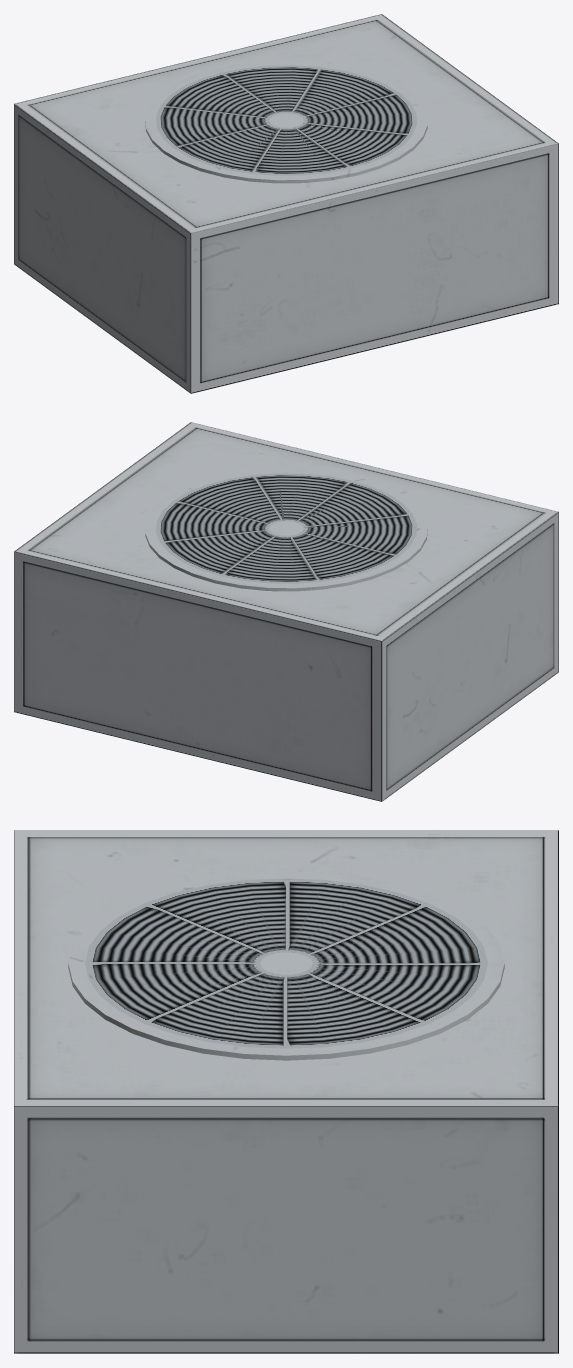
File: AirConditioner_02.FBX
3 views of the same model, one above another, from view 1: azimuth 30°, elevation 25°; view 2: azimuth 150°, elevation 25°; view 3: azimuth 270°, elevation 25° (orthographic). The views are drawn at different scales.
Parts seen in each view (by area): view 1: AirConditioner_02; view 2: AirConditioner_02; view 3: AirConditioner_02.
Boxes of the visible parts, bbox=[...] form: AirConditioner_02: bbox=[14, 14, 558, 393]; AirConditioner_02: bbox=[14, 422, 558, 801]; AirConditioner_02: bbox=[14, 830, 558, 1353].
Size of the model in its own units: 1.2 by 0.51 by 1.
Materials: 2 (2 with a texture image).
